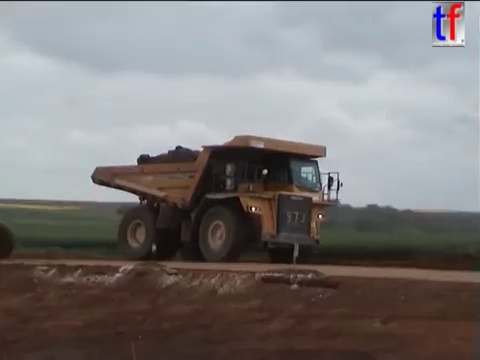truck: (88, 133, 346, 264)
